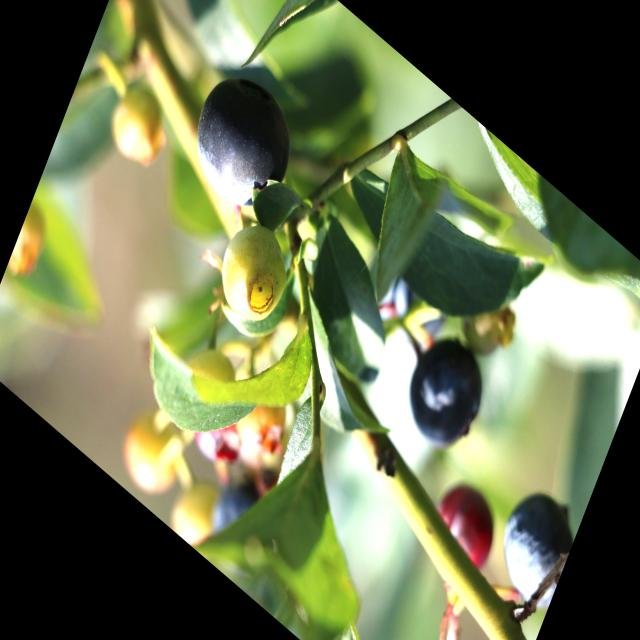blueberry: (178, 47, 308, 236), (394, 312, 500, 474), (484, 467, 583, 622), (204, 452, 270, 558)
blueberry-halfripe: (425, 468, 506, 582)
blueberry-unripe: (208, 208, 300, 345), (97, 64, 174, 180)
